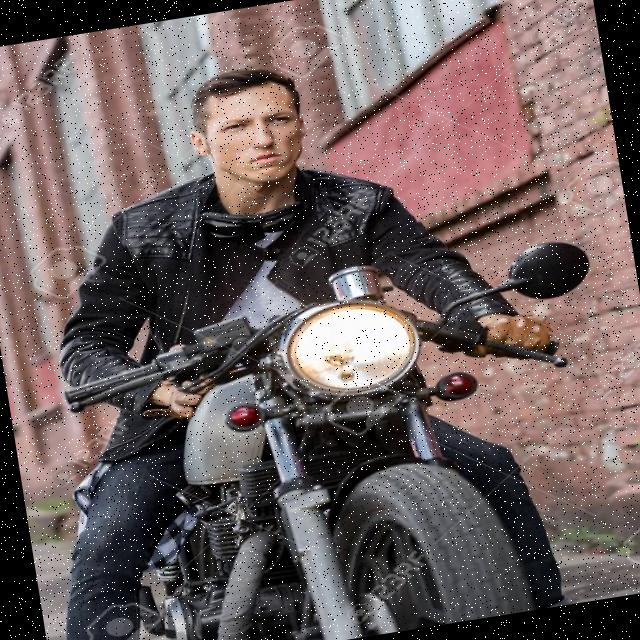No helmet: (171, 54, 342, 243)
